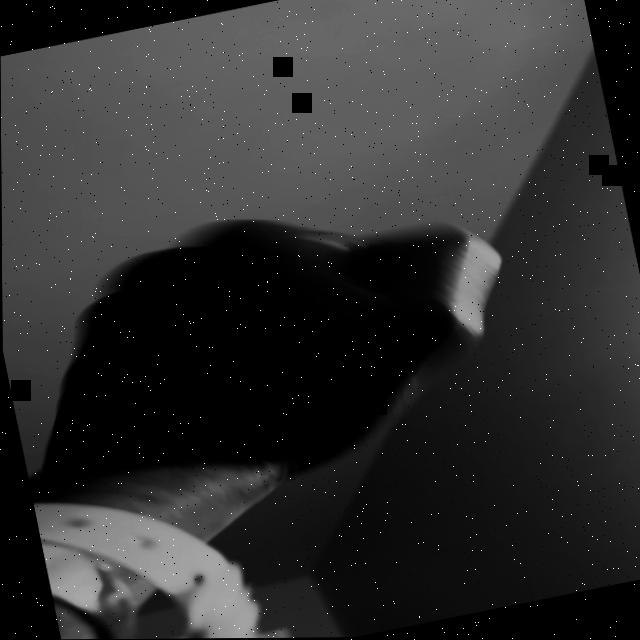Rock: (1, 166, 532, 520)
